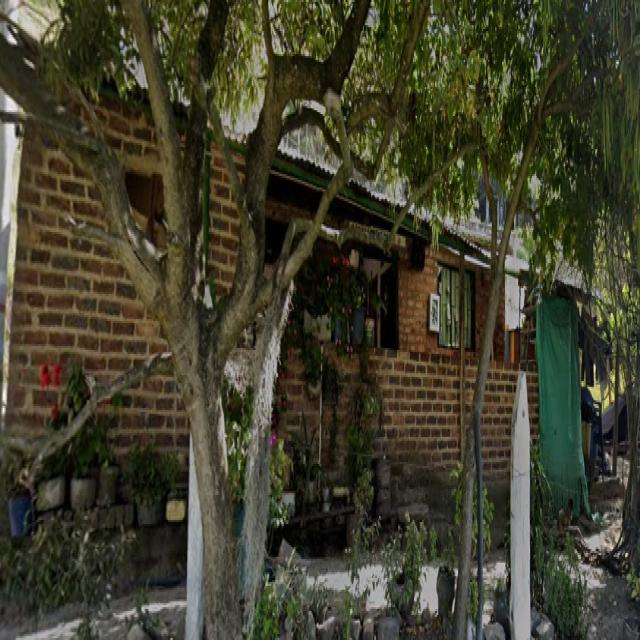Casa: (4, 97, 582, 507)
